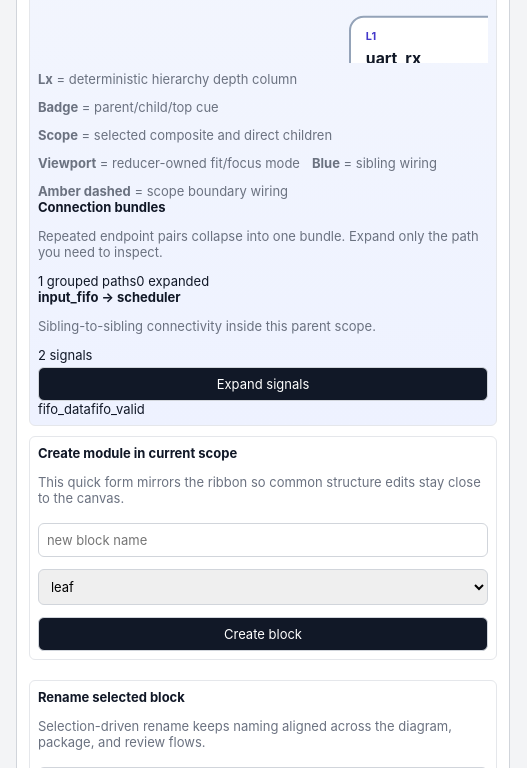
Test: DiagramWorkspace › exposes accessible pressed and expanded states for viewport and bundle controls
(page scrolled)
Click the button "Expand signals" at (263, 384), box [38,367,488,401]
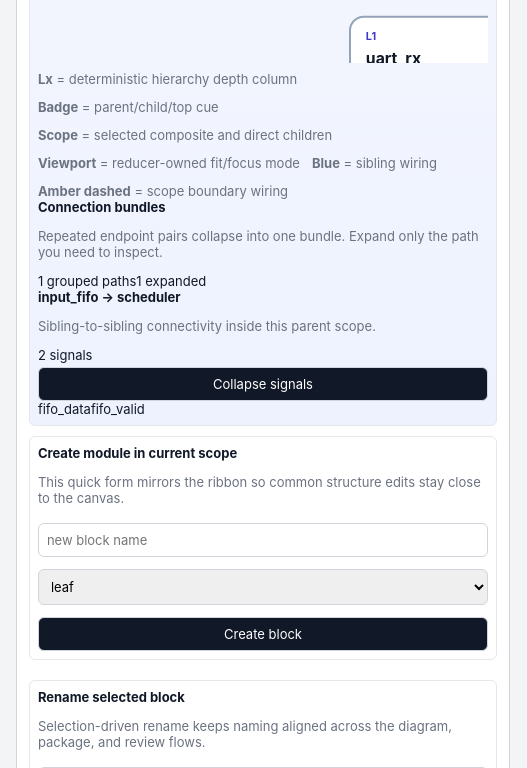
Result: the button "Collapse signals" is expanded at [38,367,488,401]
